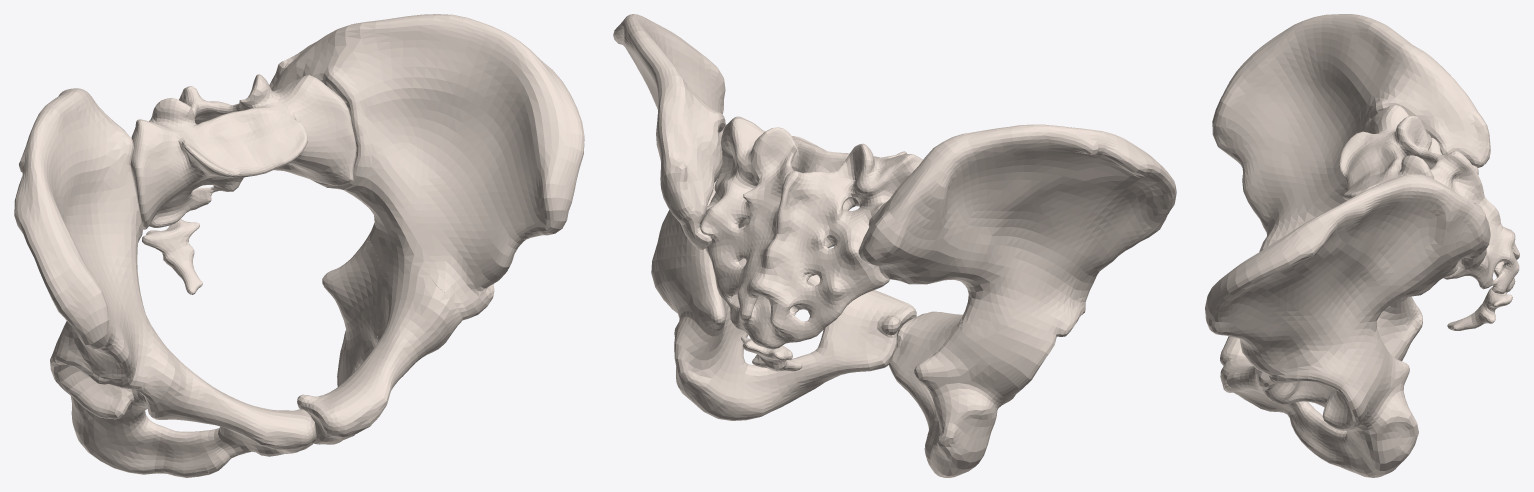
File: VH_F_Pelvis_0.8.glb
3 renders of one model, left to right at view 1: azimuth 30°, elevation 25°; view 2: azimuth 150°, elevation 25°; view 3: azimuth 270°, elevation 25°, orthographic. The views are drawn at different scales.
Parts seen in each view (by area): view 1: VH_F_ilium_compact_bone_L, VH_F_ilium_compact_bone_R, VH_F_sacrum, VH_F_pubis_compact_bone_L, VH_F_pubis_compact_bone_R, VH_F_ischium_compact_bone_R, VH_F_ischium_compact_bone_L, VH_F_coccyx; view 2: VH_F_ilium_compact_bone_R, VH_F_sacrum, VH_F_ilium_compact_bone_L, VH_F_ischium_compact_bone_L, VH_F_ischium_compact_bone_R, VH_F_pubis_compact_bone_L, VH_F_pubis_compact_bone_R, VH_F_coccyx; view 3: VH_F_ilium_compact_bone_L, VH_F_ilium_compact_bone_R, VH_F_sacrum, VH_F_ischium_compact_bone_L, VH_F_pubis_compact_bone_L, VH_F_ischium_compact_bone_R, VH_F_coccyx, VH_F_pubis_compact_bone_R.
Boxes of the visible parts, <box> form: VH_F_ilium_compact_bone_L: <box>269,14,584,320</box>; VH_F_ilium_compact_bone_R: <box>14,88,153,392</box>; VH_F_sacrum: <box>130,74,356,229</box>; VH_F_pubis_compact_bone_L: <box>297,263,462,444</box>; VH_F_pubis_compact_bone_R: <box>140,325,316,474</box>; VH_F_ischium_compact_bone_R: <box>50,362,209,477</box>; VH_F_ischium_compact_bone_L: <box>322,239,382,436</box>; VH_F_coccyx: <box>142,219,202,294</box>; VH_F_ilium_compact_bone_R: <box>858,124,1176,354</box>; VH_F_sacrum: <box>700,116,922,349</box>; VH_F_ilium_compact_bone_L: <box>613,14,745,260</box>; VH_F_ischium_compact_bone_L: <box>651,255,806,420</box>; VH_F_ischium_compact_bone_R: <box>914,322,1048,477</box>; VH_F_pubis_compact_bone_L: <box>740,258,916,393</box>; VH_F_pubis_compact_bone_R: <box>889,311,962,420</box>; VH_F_coccyx: <box>741,336,802,371</box>; VH_F_ilium_compact_bone_L: <box>1205,174,1490,401</box>; VH_F_ilium_compact_bone_R: <box>1212,14,1490,235</box>; VH_F_sacrum: <box>1339,105,1519,294</box>; VH_F_ischium_compact_bone_L: <box>1307,341,1418,477</box>; VH_F_pubis_compact_bone_L: <box>1220,357,1322,447</box>; VH_F_ischium_compact_bone_R: <box>1377,296,1422,361</box>; VH_F_coccyx: <box>1447,287,1512,330</box>; VH_F_pubis_compact_bone_R: <box>1220,222,1305,365</box>.
Bounding box in the file's own units: 0.3168 × 0.2115 × 0.1827.
